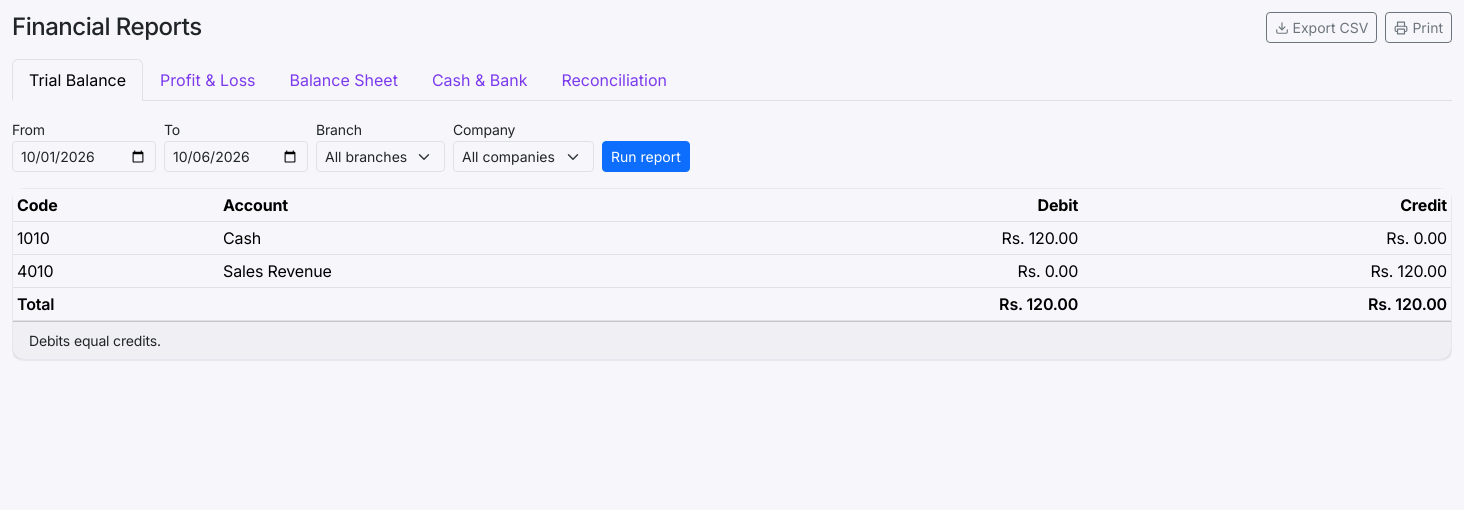
FinancialReports › renders Profit & Loss, Balance Sheet and Cash & Bank from their endpoints
Expected: the text "Sales Revenue" is shown, [219, 254, 713, 288]
Click the button "Profit & Loss" at (208, 80), box [143, 59, 272, 101]
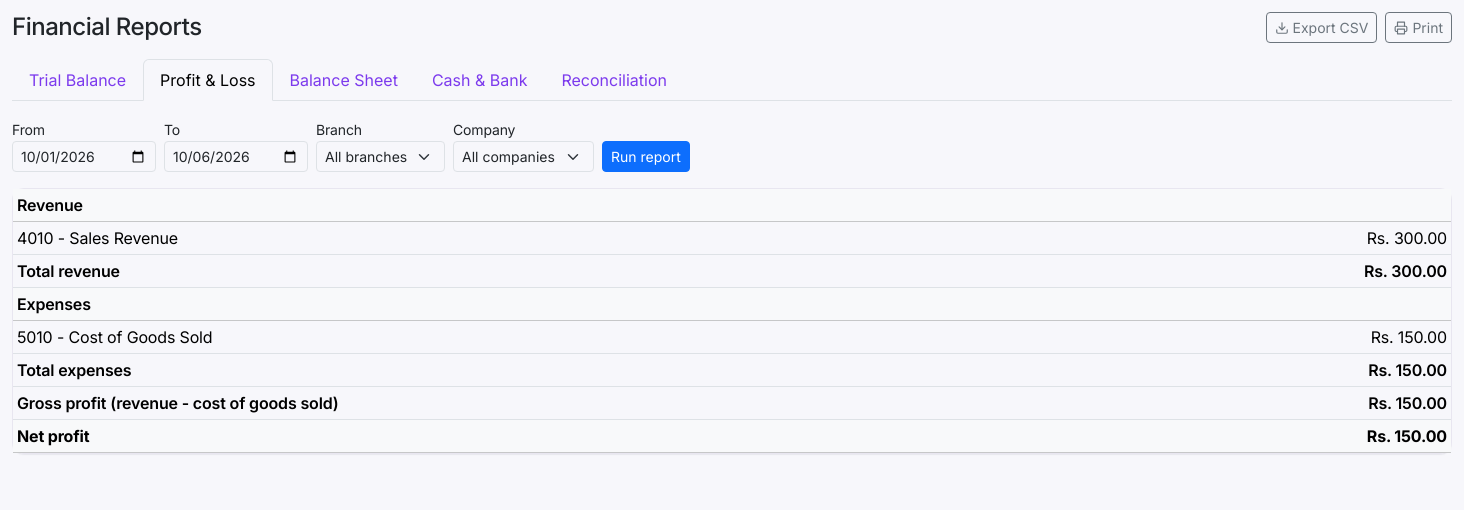
Expected: the text "Net profit" is shown, [13, 420, 1140, 452]
Click the button "Balance Sheet" at (344, 80), box [272, 59, 415, 101]
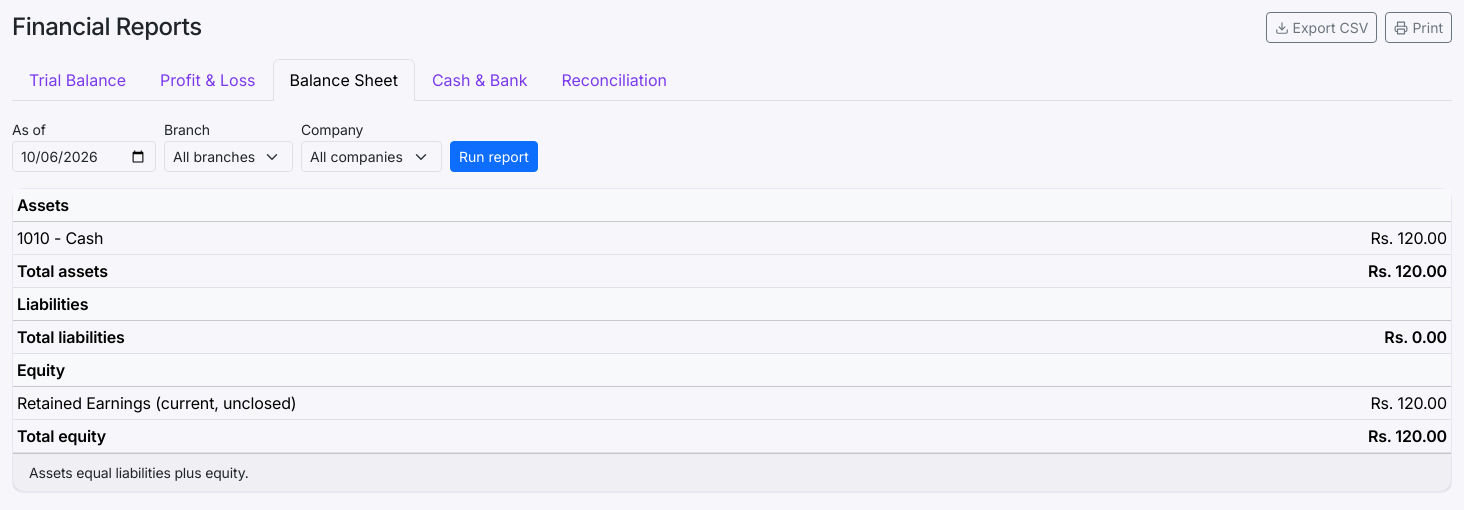
Expected: the text "Assets equal liabilities plus equity." is shown, [13, 453, 1451, 491]
Click the button "Cash & Bank" at (480, 80), box [415, 59, 544, 101]
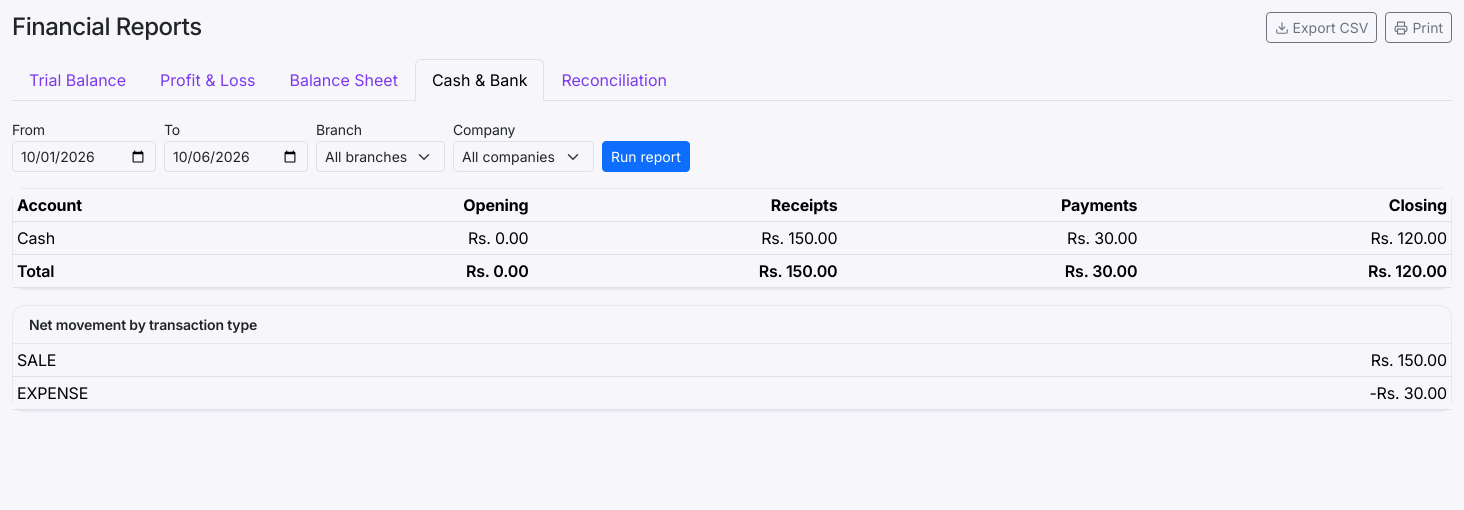
Expected: the text "Net movement by transaction type" is shown, [13, 306, 1451, 344]
Expected: the text "SALE" is shown, [13, 344, 704, 376]
